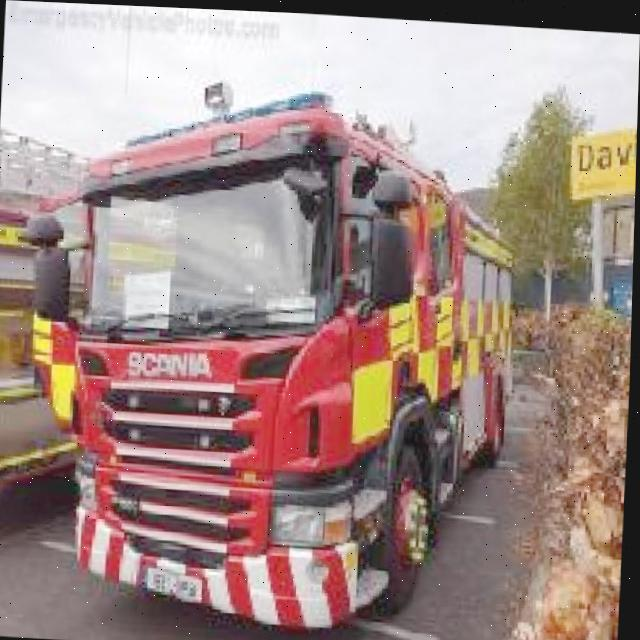emergency: (7, 67, 531, 640)
